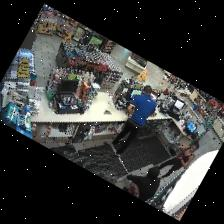person: (111, 85, 155, 157), (157, 141, 198, 178), (122, 166, 159, 201)
